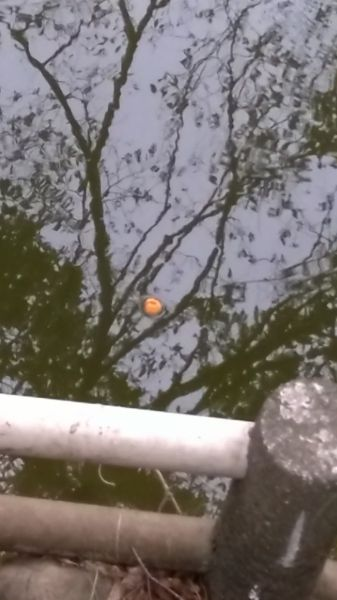eggs: (140, 294, 166, 318)
